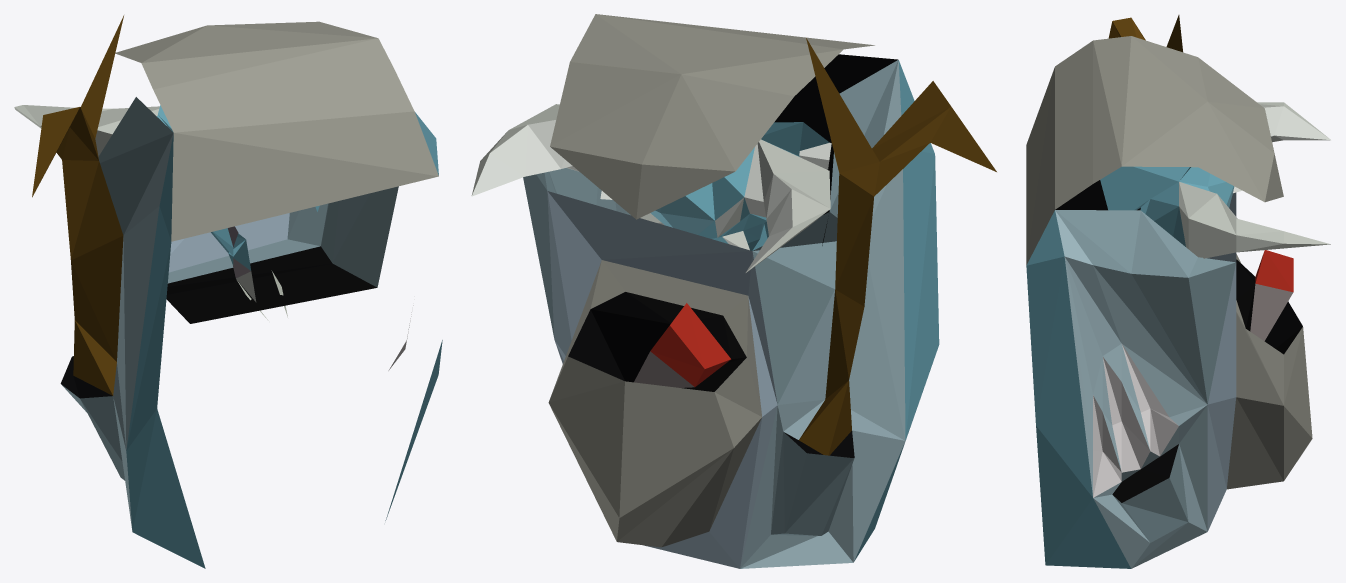
Rendered from player_ava_s_assembler.glb.
3 renders of one model, left to right at view 1: azimuth 30°, elevation 25°; view 2: azimuth 150°, elevation 25°; view 3: azimuth 270°, elevation 25°, orthographic. The views are drawn at different scales.
Size of the model in its own units: 44.99 by 53.99 by 32.
1 material, 1 textured.
